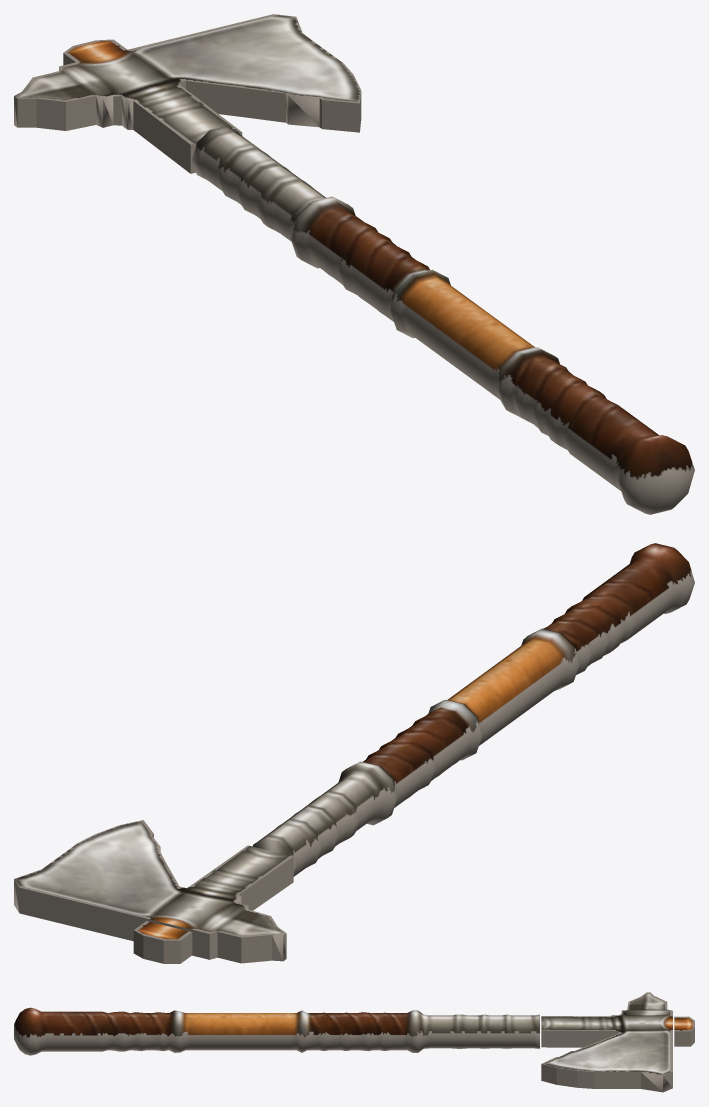
The model's file is item_mm9_10182.glb.
The picture shows the model from 3 angles, top to bottom: view 1: azimuth 30°, elevation 25°; view 2: azimuth 150°, elevation 25°; view 3: azimuth 270°, elevation 25°; orthographic projection. The views are drawn at different scales.
Parts seen in each view (by area): view 1: d10182; view 2: d10182; view 3: d10182.
Boxes of the visible parts, x1,y1,x2,y2 form: d10182: (14, 14, 694, 514); d10182: (14, 543, 694, 963); d10182: (14, 992, 694, 1092).
Bounding box in the file's own units: 64.02 × 15.01 × 222.
Materials: 1 (1 with a texture image).
